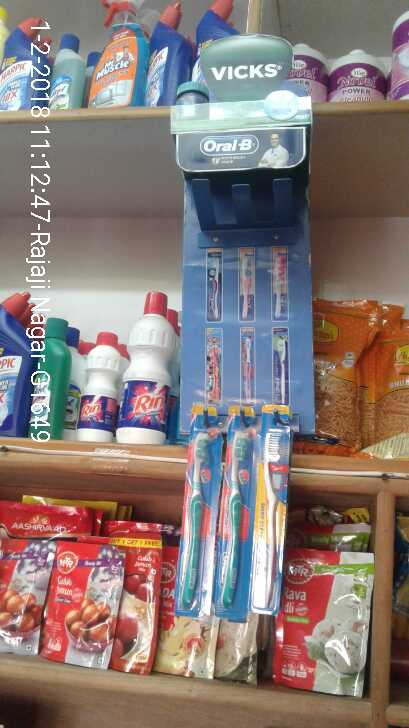oralb: (257, 416, 289, 606), (177, 433, 205, 624), (220, 425, 248, 608)
